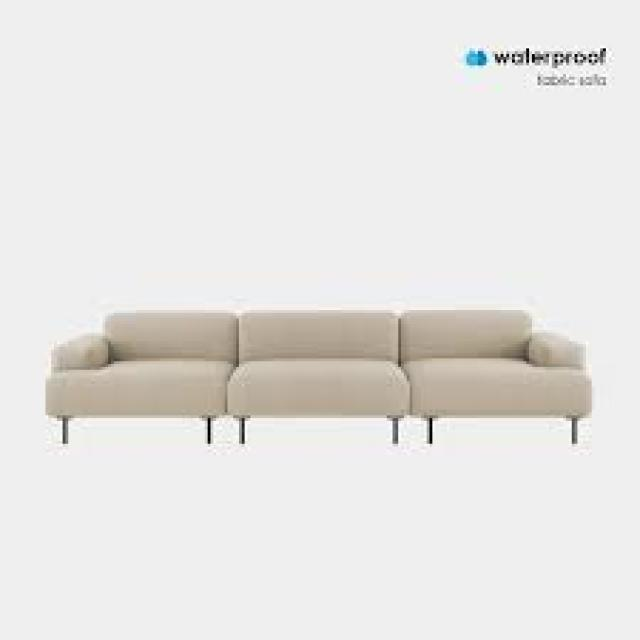Sofa: (19, 270, 618, 504)
